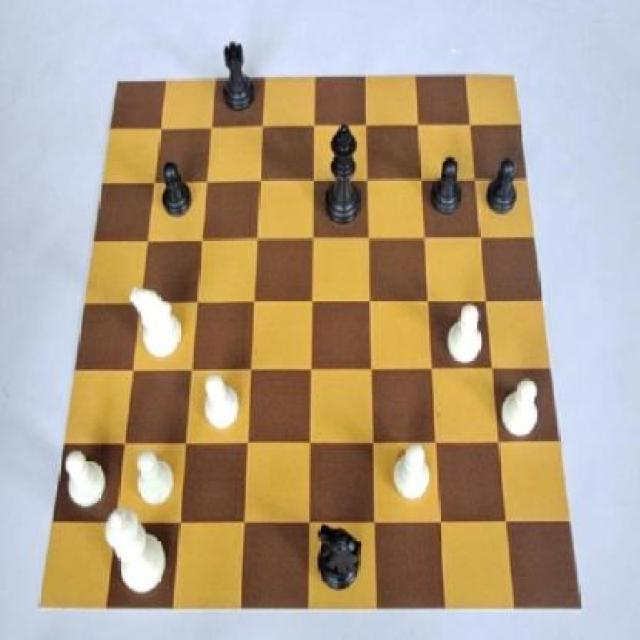black-bishop: (321, 119, 364, 238)
black-king: (312, 514, 365, 601)
black-knight: (477, 154, 523, 230), (429, 146, 467, 229), (154, 158, 196, 222)
black-queen: (215, 42, 258, 118)
white-bishop: (100, 501, 171, 594)
white-king: (124, 284, 186, 364)
white-knight: (494, 366, 550, 445), (435, 297, 490, 373), (60, 443, 110, 514), (131, 443, 180, 514), (199, 366, 246, 439), (388, 438, 434, 509)
